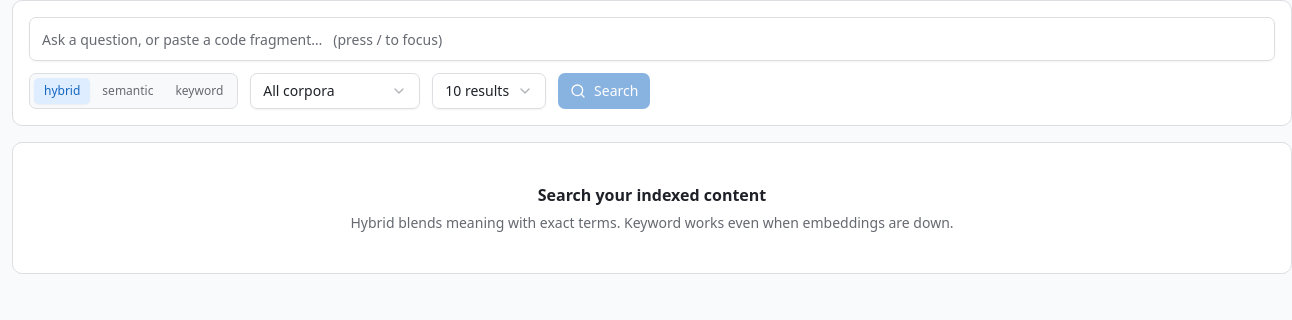
Test: searching › shows where a hit is, not just what it says
Type "chunk sets" into the field with placeholder "Ask a question" at (652, 39), box [29,17,1275,61]
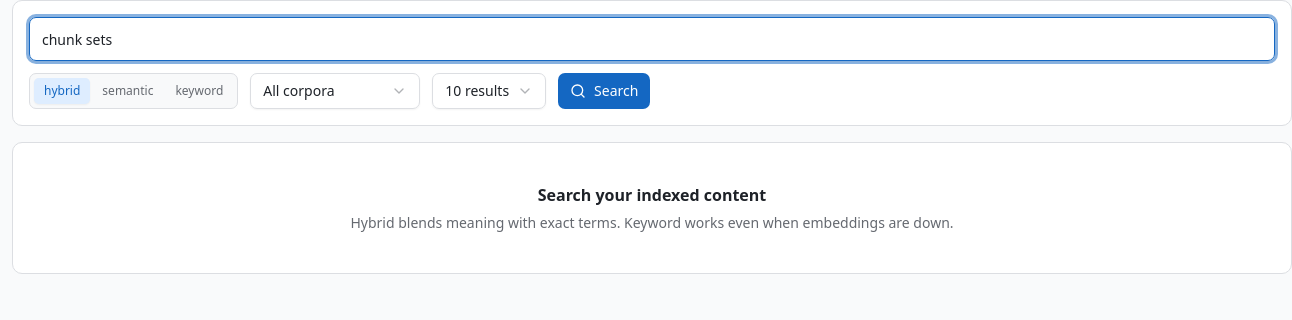
Click the button "Search" at (604, 91), box [558,73,650,109]
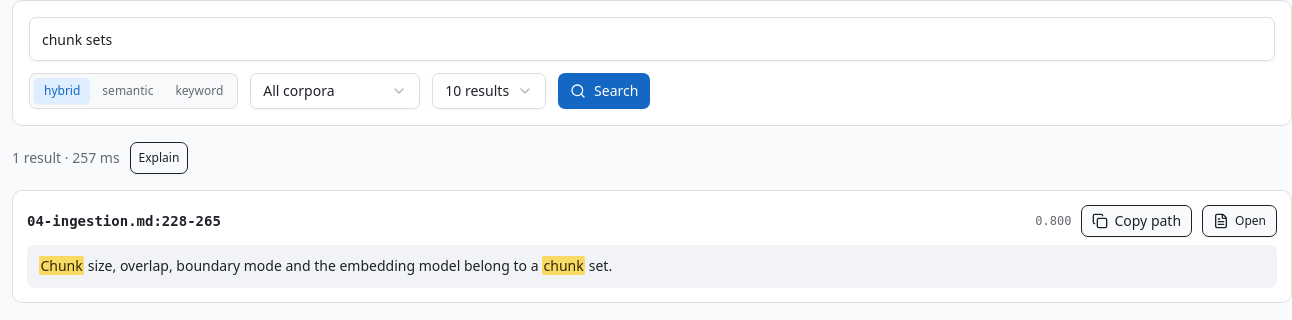
Check: the text "04-ingestion.md:228-265" is shown, box [27,211,221,231]
